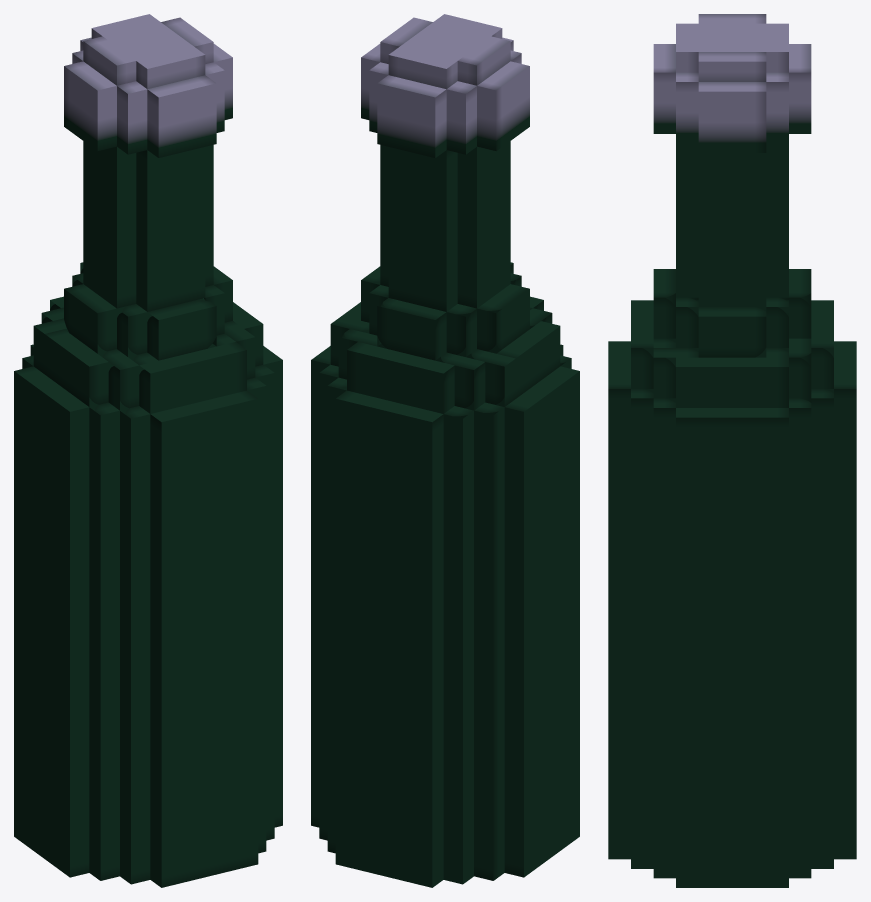
Rendered from butla_zamknieta.dae.
3 renders of one model, left to right at view 1: azimuth 30°, elevation 25°; view 2: azimuth 150°, elevation 25°; view 3: azimuth 270°, elevation 25°, orthographic.
Parts seen in each view (by area): view 1: Content; view 2: Content; view 3: Content.
Boxes of the visible parts, x1=… form: Content: x1=14, y1=14, x2=282, y2=887; Content: x1=311, y1=14, x2=579, y2=887; Content: x1=608, y1=14, x2=856, y2=887.
Bounding box in the file's own units: 11 × 39 × 11.
1 material, 1 textured.
